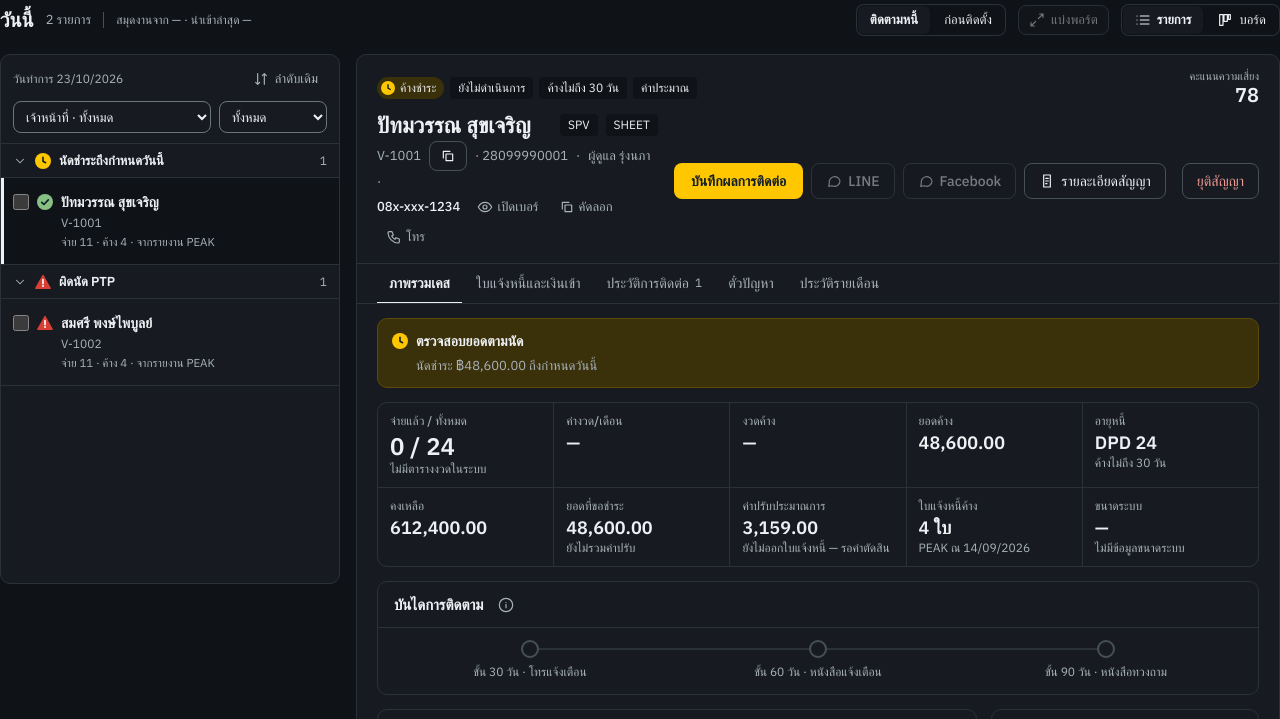
it: Today › filters collection by EPC beside the officer and keeps it on the board
Select "EPC" in the dropdown named "EPC/SPV": (273, 117) x1=219 y1=101 x2=327 y2=133
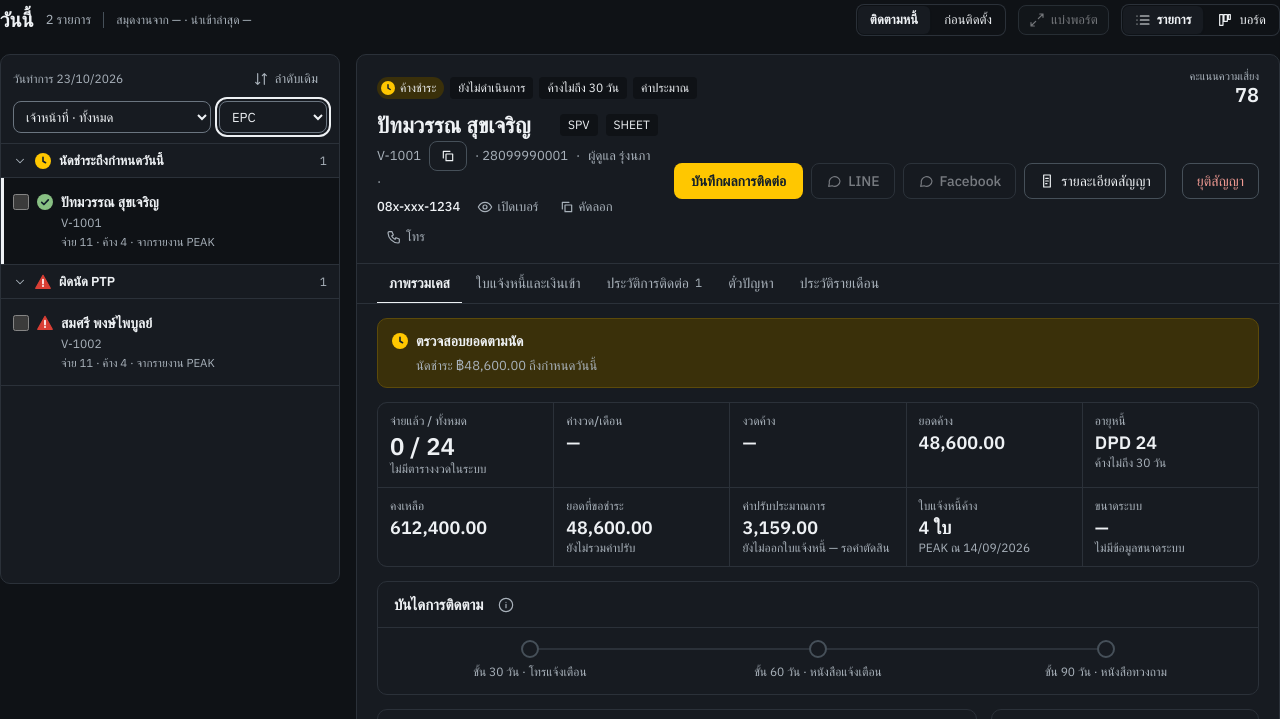
Click the radio button labelled "บอร์ด": (1242, 20) x1=1206 y1=6 x2=1278 y2=34
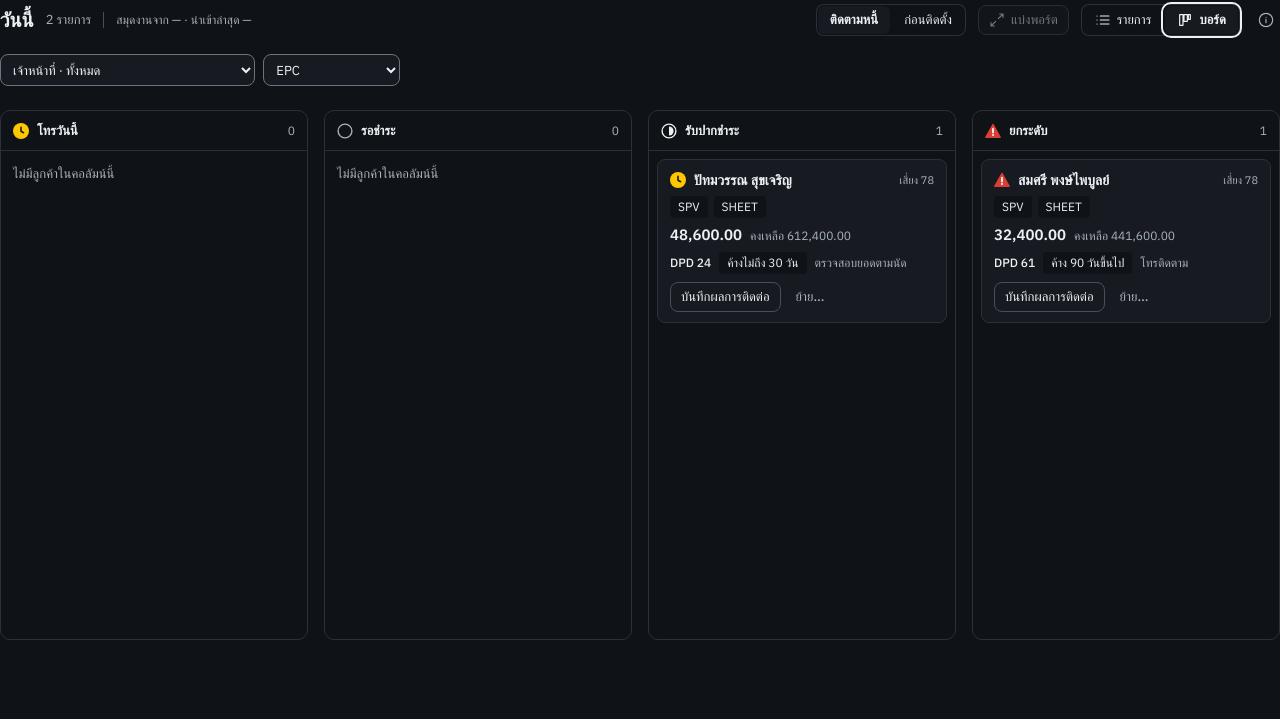
Expected: the dropdown named "EPC/SPV" shows "EPC", x1=263 y1=54 x2=400 y2=86
Expected: the element with test id "board" is shown
